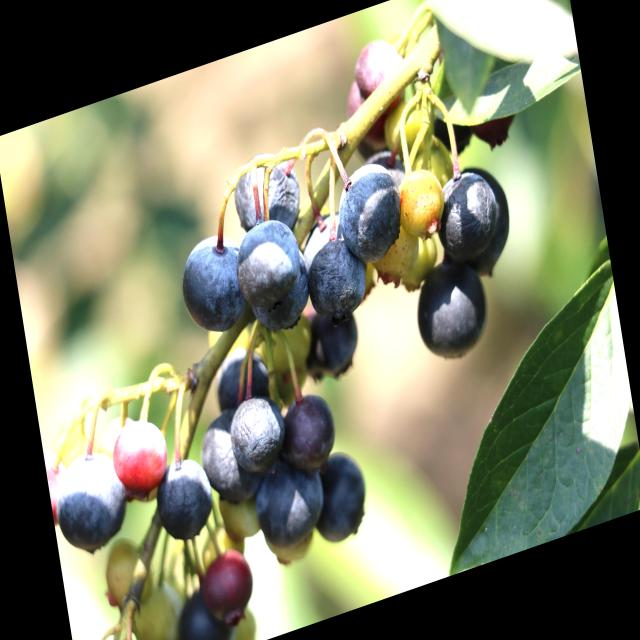blueberry: (431, 150, 522, 296), (403, 238, 500, 372), (47, 438, 136, 568), (329, 150, 412, 276), (246, 444, 334, 562), (172, 225, 250, 348), (226, 137, 308, 249), (425, 159, 505, 273), (298, 223, 377, 337), (228, 208, 307, 320), (193, 400, 261, 521), (305, 438, 377, 552), (223, 378, 296, 486), (270, 382, 344, 488), (245, 239, 320, 342), (150, 449, 222, 555), (304, 292, 368, 388), (210, 340, 278, 430), (294, 198, 358, 283), (170, 572, 233, 640), (359, 132, 415, 203)
blueberry-halfripe: (107, 411, 171, 501), (199, 540, 262, 626), (350, 26, 413, 110)
blueberry-unripe: (391, 160, 449, 239), (100, 532, 152, 612), (128, 576, 185, 640)
